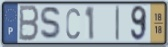1: (84, 5, 95, 42)
9: (129, 4, 148, 43)
B: (18, 4, 41, 43)
C: (65, 7, 81, 41)
I: (114, 4, 120, 42)
S: (39, 5, 63, 42)
